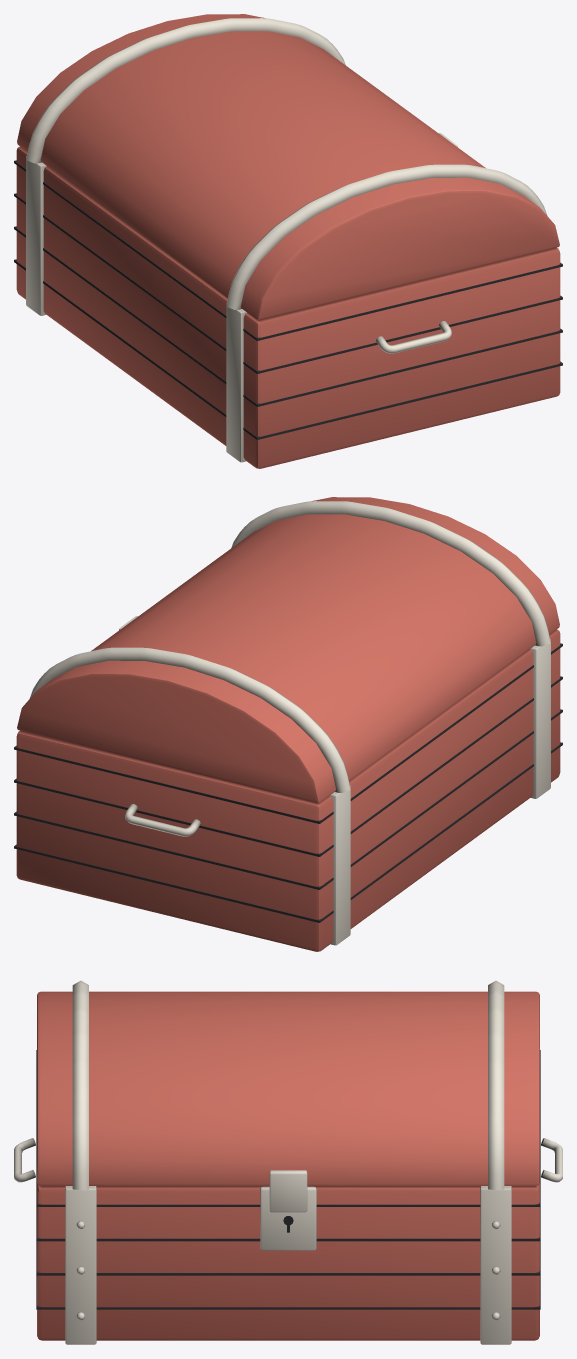
The model's file is nd_chest_2.glb.
3 renders of one model, top to bottom at view 1: azimuth 30°, elevation 25°; view 2: azimuth 150°, elevation 25°; view 3: azimuth 270°, elevation 25°, orthographic. The views are drawn at different scales.
Visible parts, largest first — view 1: LID, PART; view 2: LID, PART; view 3: LID, PART.
Boxes of the visible parts, box(x1,y1,x2,y2) form: LID: box(17, 14, 559, 319); PART: box(14, 146, 562, 468); LID: box(17, 497, 559, 802); PART: box(14, 629, 562, 951); LID: box(37, 980, 539, 1212); PART: box(14, 1050, 562, 1344).
Bounding box in the file's own units: 0.6161 × 0.4514 × 0.8729.
